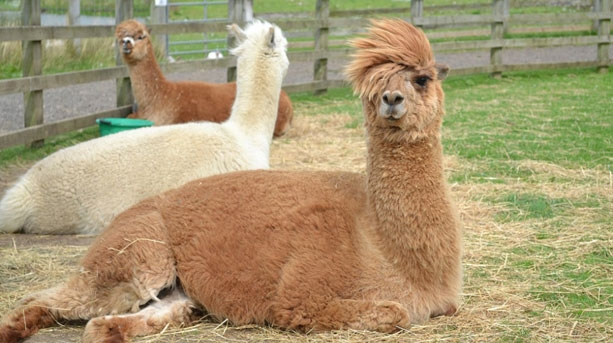alpaca: (1, 16, 464, 343), (1, 17, 290, 237), (112, 19, 293, 138)
